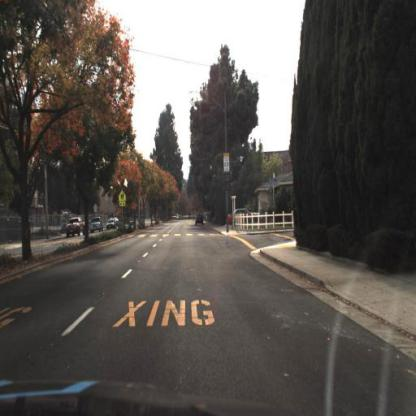car: (67, 216, 85, 239), (194, 210, 208, 229), (89, 216, 103, 234), (105, 218, 120, 232)
